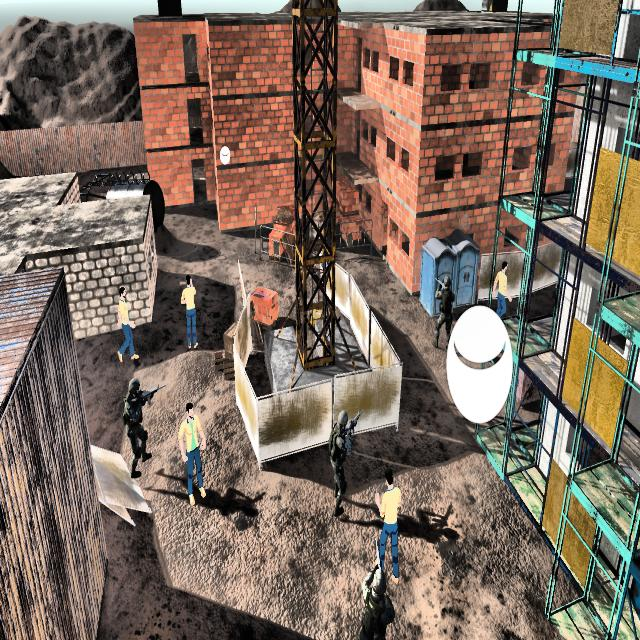bad: (323, 400, 363, 529), (347, 546, 395, 640), (116, 372, 157, 479), (431, 266, 455, 350)
good: (367, 460, 402, 589), (172, 397, 211, 504), (112, 282, 142, 374), (175, 268, 199, 354), (492, 245, 514, 321)
